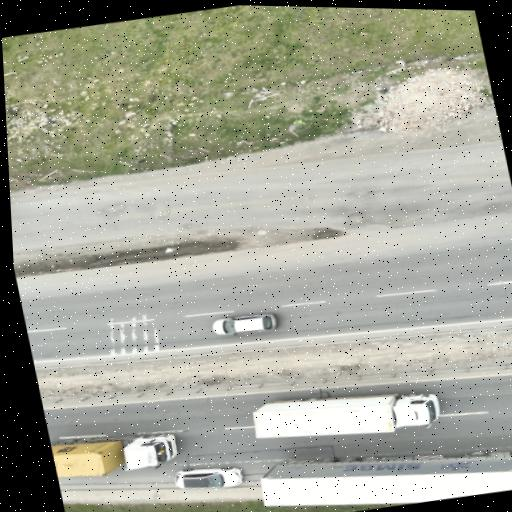car: (176, 466, 243, 488), (213, 313, 276, 334)
truck: (261, 451, 511, 505), (253, 393, 439, 437), (51, 433, 176, 476)
